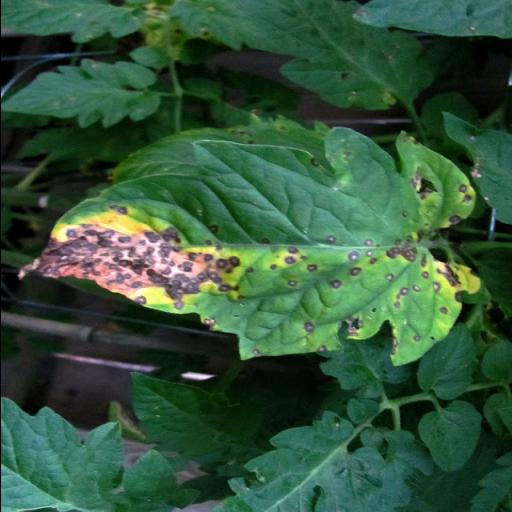Septoria: (17, 117, 493, 368)
